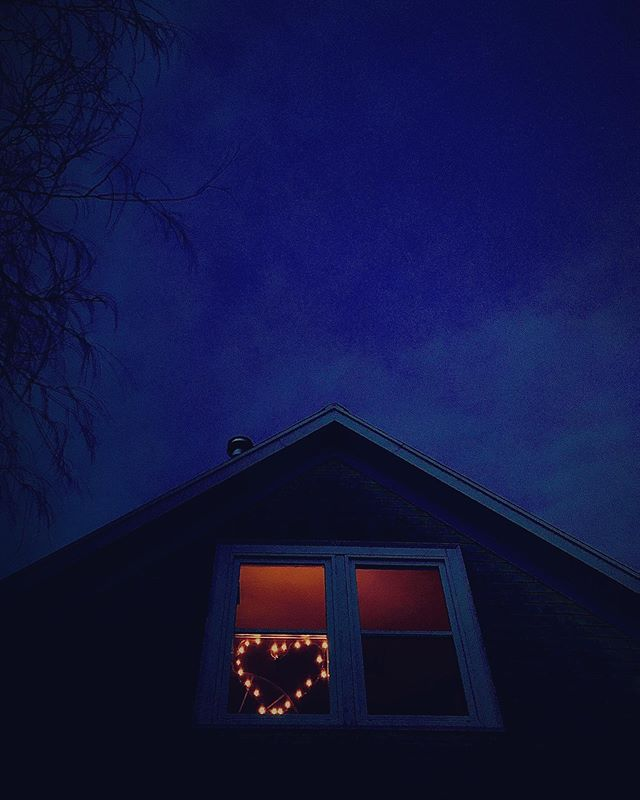sky: (1, 1, 640, 511)
tree: (1, 1, 151, 520)
window: (223, 548, 476, 716)
